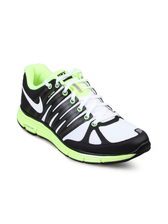shoes: (12, 59, 157, 166)
